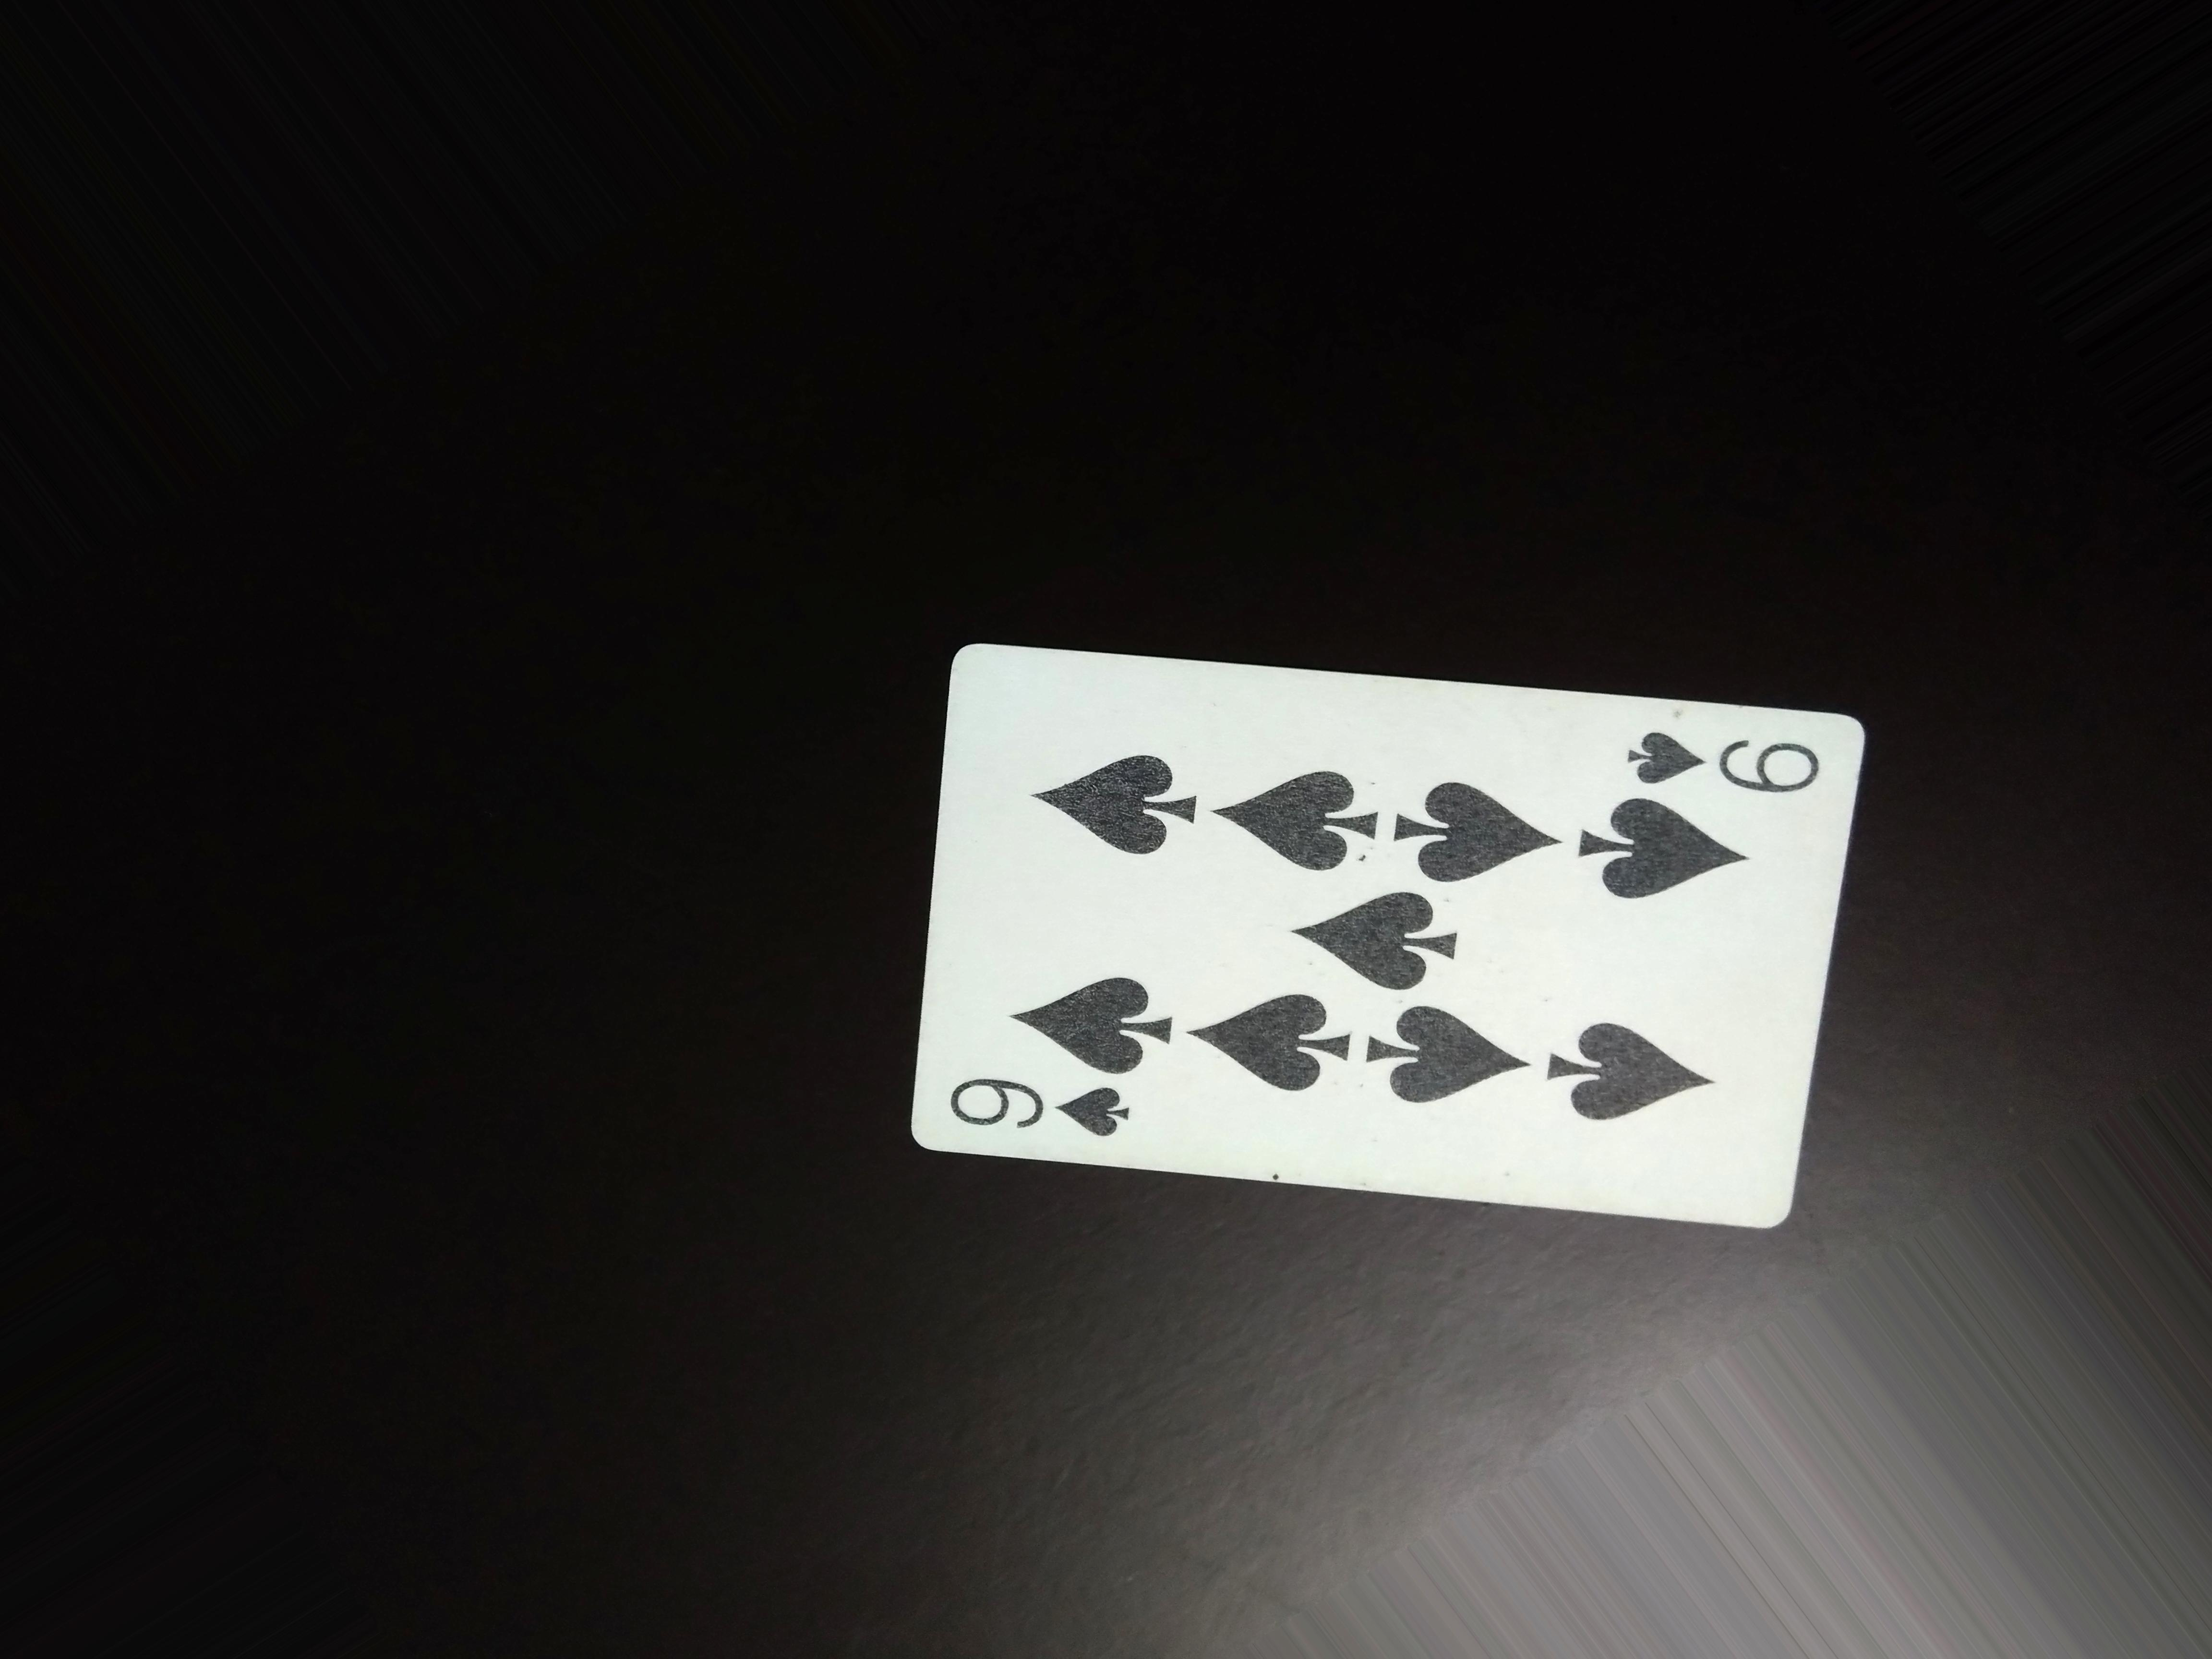9S: (1595, 718, 1838, 819)
